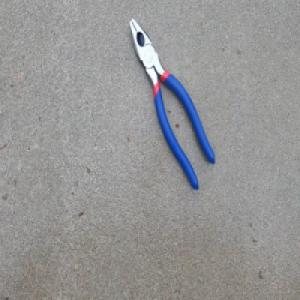Pliers: (127, 15, 216, 192)
